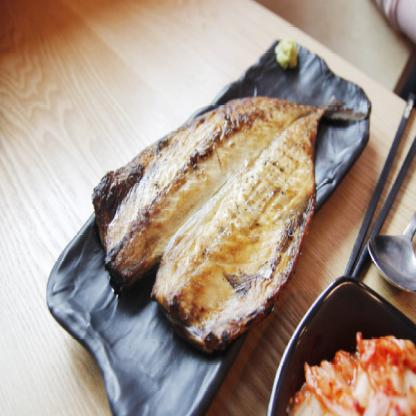Peixe: (73, 71, 356, 345)
